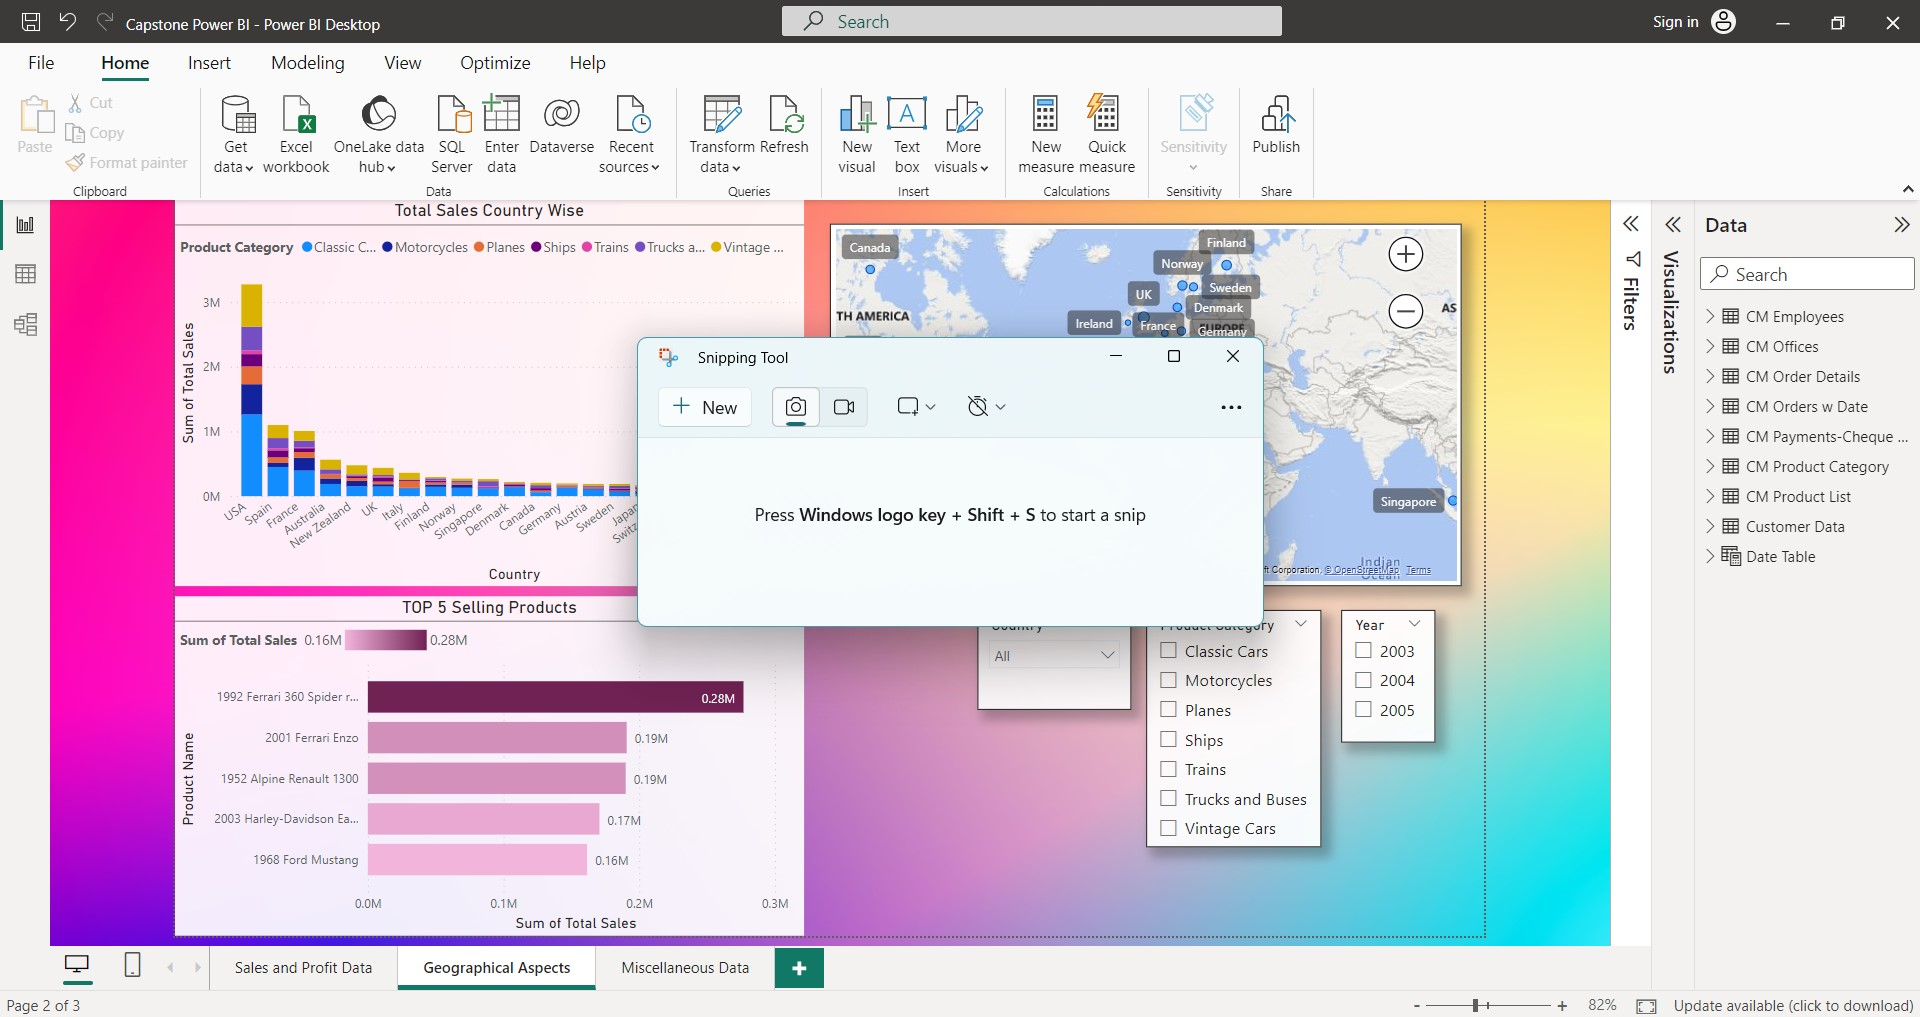

The page's visual inventory and layout, read from the dashboard file:
{"tool":"powerbi","page":{"name":"Geographical Aspects","canvas":[1280,720],"ordinal":1},"visuals":[{"type":"map","fields":{"Category":["Customer Data.Country"],"Size":["CM Order Details.Total Sales"]},"box":[640.5,23.2,617.3,354.5],"z":0},{"type":"columnChart","title":"Total Sales Country Wise","fields":{"Category":["Customer Data.Country"],"Y":["CM Order Details.Total Sales"],"Series":["CM Product Category.Product Category"]},"box":[0,0,614.9,377.7],"z":1000},{"type":"clusteredBarChart","title":"TOP 5 Selling Products","fields":{"Category":["CM Product List.Product Name"],"Y":["CM Order Details.Total Sales"]},"box":[0,388,615,332],"z":2000},{"type":"slicer","fields":{"Values":["Date Table.Year"]},"box":[1140.5,401,91.7,129.6],"z":3000},{"type":"slicer","fields":{"Values":["CM Product List.Product Category"]},"box":[949.8,401,171.1,232.3],"z":4000},{"type":"slicer","fields":{"Values":["Customer Data.Country"]},"box":[784.8,401,150.4,97.8],"z":5000}]}

Visuals, with their boxes on the page's 1280x720 design canvas (x1, y1, x2, y2). These are canvas units, not pixel positions in the 1920x1017 screenshot, which may show the page scaled, cropped or inside an application window:
map - Customer Data.Country x CM Order Details.Total Sales: [x1=640, y1=23, x2=1258, y2=378]
"Total Sales Country Wise" columnChart: [x1=0, y1=0, x2=615, y2=378]
"TOP 5 Selling Products" clusteredBarChart: [x1=0, y1=388, x2=615, y2=720]
slicer - Date Table.Year: [x1=1140, y1=401, x2=1232, y2=531]
slicer - CM Product List.Product Category: [x1=950, y1=401, x2=1121, y2=633]
slicer - Customer Data.Country: [x1=785, y1=401, x2=935, y2=499]
